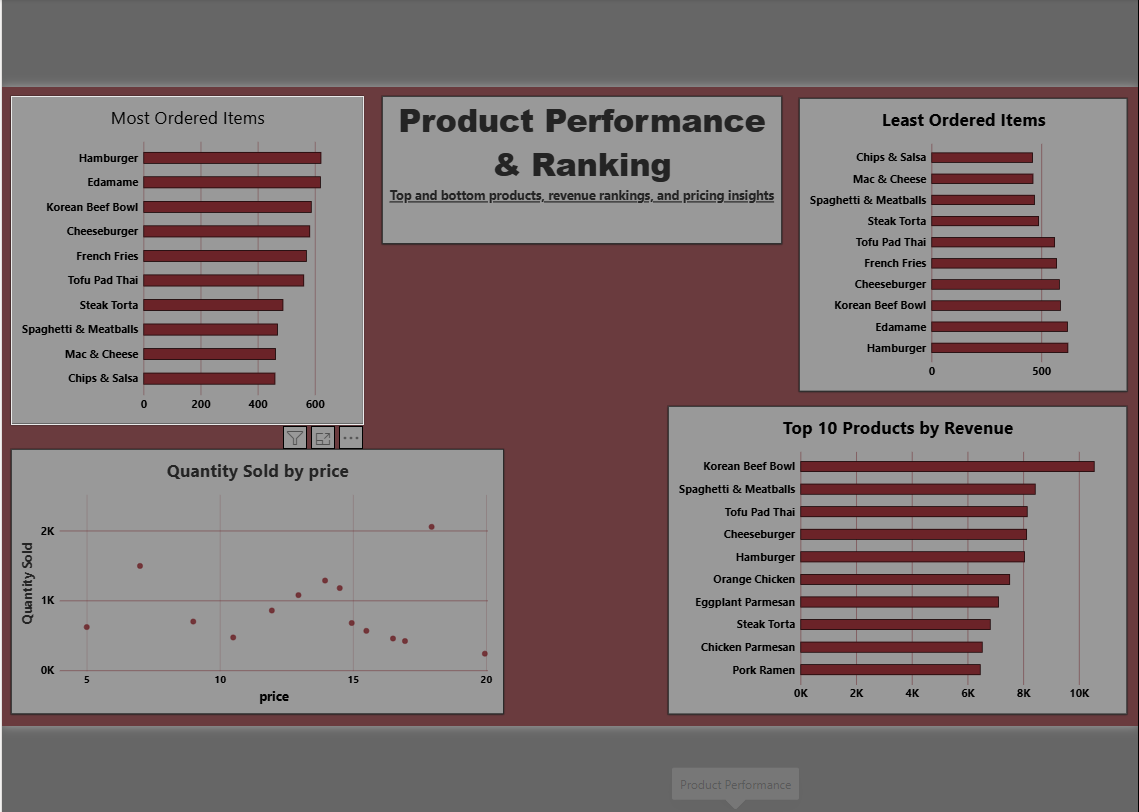

This screenshot's page, from the dashboard's own definition file:
{"tool":"powerbi","page":{"name":"Product Performance","canvas":[1920,1080],"ordinal":3},"visuals":[{"type":"clusteredBarChart","title":"Most Ordered Items","fields":{"Category":["menu_items.item_name"],"Y":["order_details.Quantity Sold"]},"box":[15.9,15.9,596,555.1],"z":0},{"type":"clusteredBarChart","title":"Least Ordered Items","fields":{"Category":["menu_items.item_name"],"Y":["order_details.Quantity Sold"]},"box":[1346.7,18.2,555.1,495.9],"z":1},{"type":"clusteredBarChart","title":"Top 10 Products by Revenue","fields":{"Category":["menu_items.item_name"],"Y":["order_details.Total Revenue"]},"box":[1126.1,539.1,775.7,520.9],"z":2},{"type":"scatterChart","fields":{"X":["menu_items.price"],"Y":["order_details.Quantity Sold"]},"box":[15.9,611.9,832.6,448.2],"z":3},{"type":"textbox","box":[641.5,15.9,675.6,250.2],"z":4}]}

Visuals, with their boxes on the page's 1920x1080 design canvas (x1, y1, x2, y2). These are canvas units, not pixel positions in the 1139x812 screenshot, which may show the page scaled, cropped or inside an application window:
"Most Ordered Items" clusteredBarChart: pyautogui.locateOnScreen(16, 16, 612, 571)
"Least Ordered Items" clusteredBarChart: pyautogui.locateOnScreen(1347, 18, 1902, 514)
"Top 10 Products by Revenue" clusteredBarChart: pyautogui.locateOnScreen(1126, 539, 1902, 1060)
scatterChart - menu_items.price x order_details.Quantity Sold: pyautogui.locateOnScreen(16, 612, 848, 1060)
textbox: pyautogui.locateOnScreen(642, 16, 1317, 266)
